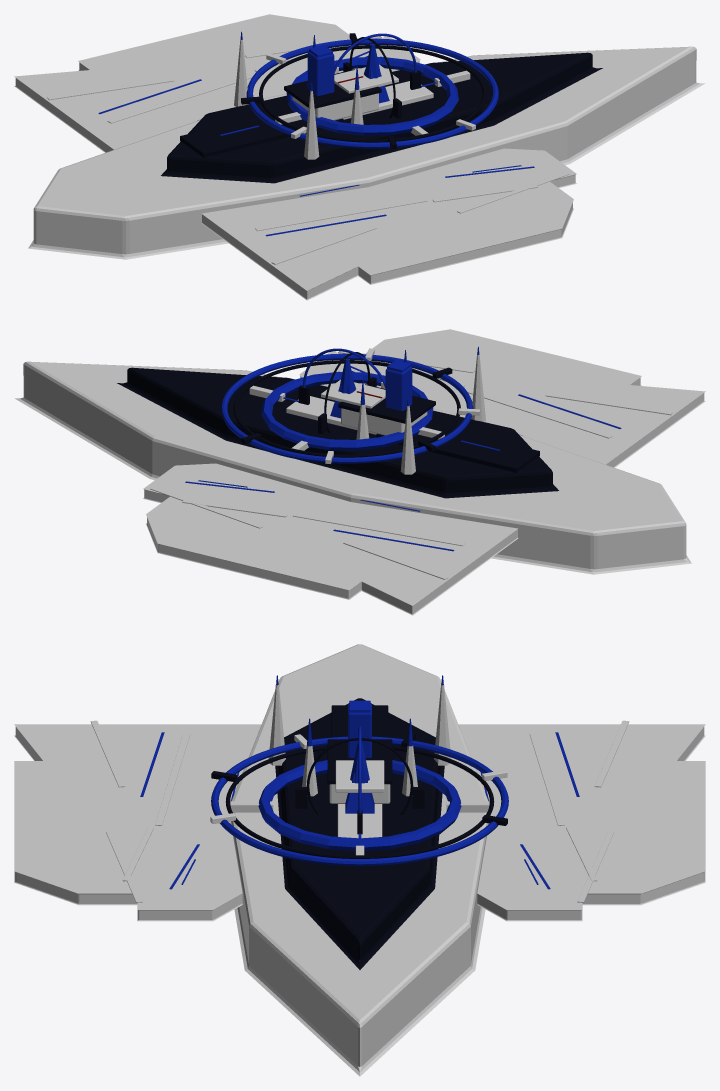
The model's file is destiny_lord_mid_stage9_refined_A.obj.
3 renders of one model, top to bottom at view 1: azimuth 30°, elevation 25°; view 2: azimuth 150°, elevation 25°; view 3: azimuth 270°, elevation 25°, orthographic. The views are drawn at different scales.
Parts seen in each view (by area): view 1: DL_Main_Hull, DL_Starboard_Wing_Stable, DL_Port_Wing_Stable, DL_Upper_Armor, DL_Fate_Ring_Outer, DL_Fate_Ring, DL_Center_Ridge_Aft, DL_Fate_Ring_Armor, DL_Bridge_Collar_Aft, DL_Observation_Spire, DL_Bridge, DL_Bridge_Collar_Fwd (+8 smaller); view 2: DL_Main_Hull, DL_Port_Wing_Stable, DL_Starboard_Wing_Stable, DL_Upper_Armor, DL_Fate_Ring_Outer, DL_Fate_Ring, DL_Center_Ridge_Aft, DL_Fate_Ring_Armor, DL_Bridge_Collar_Aft, DL_Observation_Spire, DL_Bridge, DL_Bridge_Collar_Fwd (+8 smaller); view 3: DL_Main_Hull, DL_Port_Wing_Stable, DL_Starboard_Wing_Stable, DL_Upper_Armor, DL_Fate_Ring, DL_Fate_Ring_Outer, DL_Fate_Ring_Armor, DL_Bridge_Collar_Aft, DL_Bridge_Collar_Fwd, DL_Center_Ridge_Mid, DL_Center_Ridge_Aft, DL_Observation_Spire (+5 smaller).
Boxes of the visible parts, bbox=[...] form: DL_Main_Hull: bbox=[28, 46, 704, 259]; DL_Starboard_Wing_Stable: bbox=[201, 148, 576, 300]; DL_Port_Wing_Stable: bbox=[14, 14, 420, 152]; DL_Upper_Armor: bbox=[161, 52, 602, 183]; DL_Fate_Ring_Outer: bbox=[246, 38, 498, 148]; DL_Fate_Ring: bbox=[286, 56, 458, 135]; DL_Center_Ridge_Aft: bbox=[180, 109, 343, 157]; DL_Fate_Ring_Armor: bbox=[259, 45, 486, 142]; DL_Bridge_Collar_Aft: bbox=[284, 69, 381, 108]; DL_Observation_Spire: bbox=[307, 51, 334, 95]; DL_Bridge: bbox=[292, 93, 378, 120]; DL_Bridge_Collar_Fwd: bbox=[334, 64, 398, 93]; DL_Main_Hull: bbox=[15, 361, 691, 574]; DL_Port_Wing_Stable: bbox=[143, 463, 518, 615]; DL_Starboard_Wing_Stable: bbox=[299, 329, 705, 467]; DL_Upper_Armor: bbox=[117, 367, 558, 498]; DL_Fate_Ring_Outer: bbox=[221, 353, 473, 463]; DL_Fate_Ring: bbox=[261, 371, 433, 450]; DL_Center_Ridge_Aft: bbox=[376, 424, 539, 472]; DL_Fate_Ring_Armor: bbox=[233, 360, 460, 457]; DL_Bridge_Collar_Aft: bbox=[338, 384, 435, 423]; DL_Observation_Spire: bbox=[385, 366, 412, 410]; DL_Bridge: bbox=[341, 408, 427, 435]; DL_Bridge_Collar_Fwd: bbox=[321, 379, 385, 408]; DL_Main_Hull: bbox=[230, 644, 488, 1076]; DL_Port_Wing_Stable: bbox=[458, 724, 705, 921]; DL_Starboard_Wing_Stable: bbox=[14, 724, 261, 921]; DL_Upper_Armor: bbox=[275, 698, 444, 969]; DL_Fate_Ring: bbox=[258, 760, 461, 850]; DL_Fate_Ring_Outer: bbox=[211, 736, 508, 866]; DL_Fate_Ring_Armor: bbox=[225, 745, 494, 858]; DL_Bridge_Collar_Aft: bbox=[327, 739, 392, 784]; DL_Bridge_Collar_Fwd: bbox=[335, 760, 384, 792]; DL_Center_Ridge_Mid: bbox=[337, 804, 382, 838]; DL_Center_Ridge_Aft: bbox=[331, 705, 388, 737]; DL_Observation_Spire: bbox=[348, 704, 371, 757].
Size of the model in its own units: 91.72 by 16.85 by 68.68.
